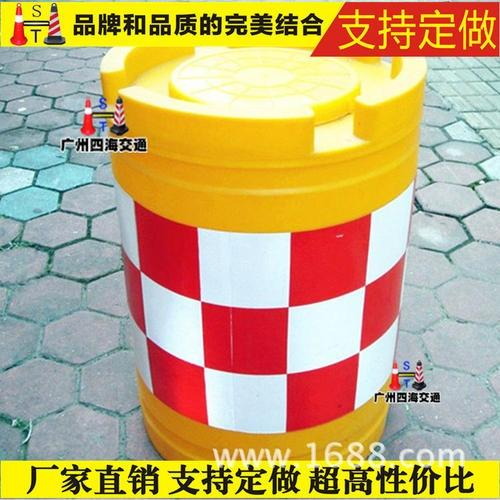cone_barrel: (97, 47, 428, 460)
